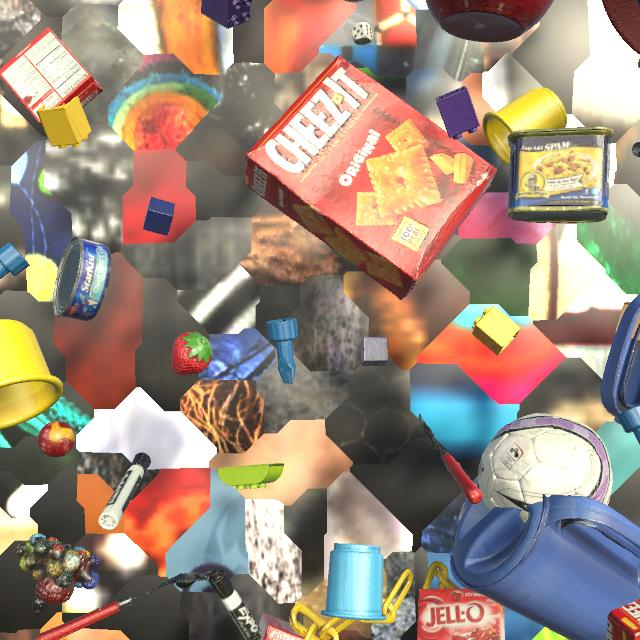ycb_003_cracker_box: (243, 55, 497, 300), (604, 599, 640, 640)
ycb_007_tuna_fish_can: (53, 236, 111, 321)
ycb_009_gelatin_box: (0, 28, 104, 125), (417, 589, 505, 640), (258, 613, 319, 640)
ycb_010_potted_meat_can: (508, 127, 614, 223)
ycb_012_strawberry: (171, 332, 213, 376)
ycb_016_pear: (344, 0, 364, 2)
